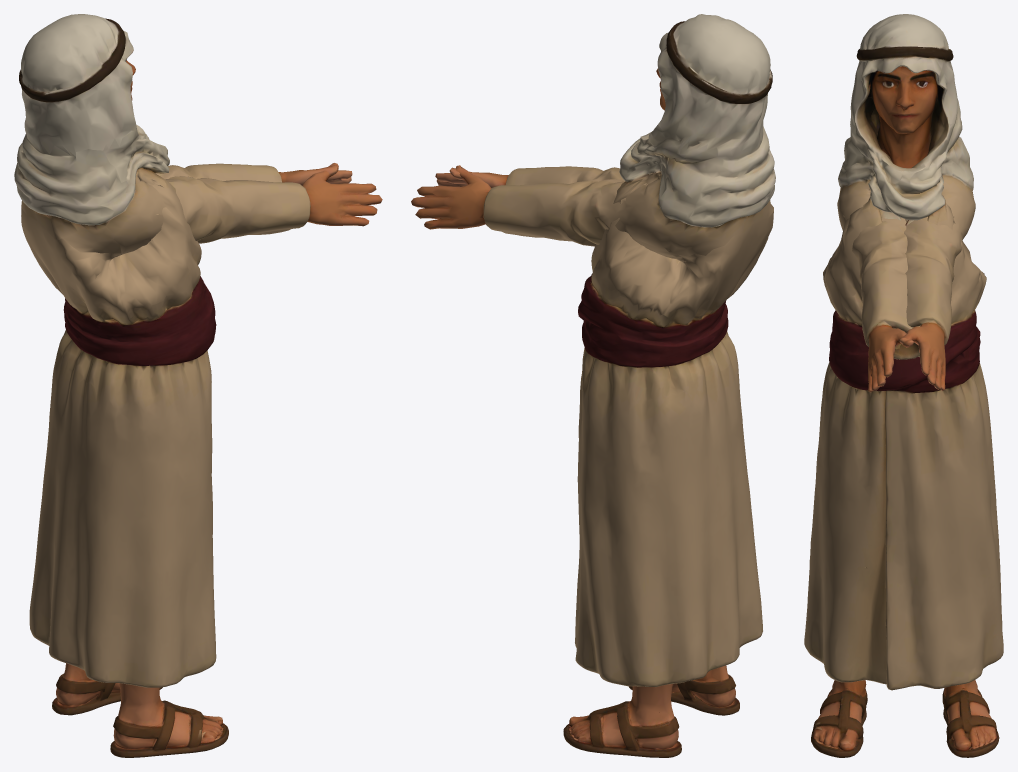
File: traveler-water.glb
3 views of the same model, side by side, from view 1: azimuth 30°, elevation 25°; view 2: azimuth 150°, elevation 25°; view 3: azimuth 270°, elevation 25° (orthographic). The views are drawn at different scales.
Parts seen in each view (by area): view 1: traveler_drawing_water; view 2: traveler_drawing_water; view 3: traveler_drawing_water.
Part boxes in pixels (bbox=[...]): traveler_drawing_water: bbox=[14, 14, 382, 757]; traveler_drawing_water: bbox=[411, 14, 775, 757]; traveler_drawing_water: bbox=[804, 14, 1003, 757].
Size of the model in its own units: 0.497 by 0.9938 by 0.2618.
Materials: 1 (1 with a texture image).
